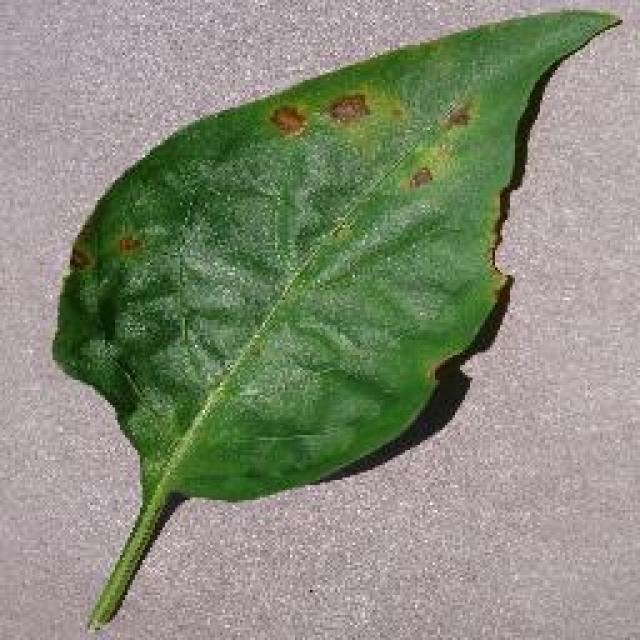Chilli_Bacterial_Spot: (47, 0, 624, 632), (63, 82, 485, 280), (260, 85, 480, 197), (395, 95, 477, 197), (325, 90, 373, 128), (265, 100, 310, 138), (435, 97, 475, 135), (65, 242, 95, 278), (113, 230, 145, 260), (403, 162, 435, 192), (382, 97, 408, 125)
